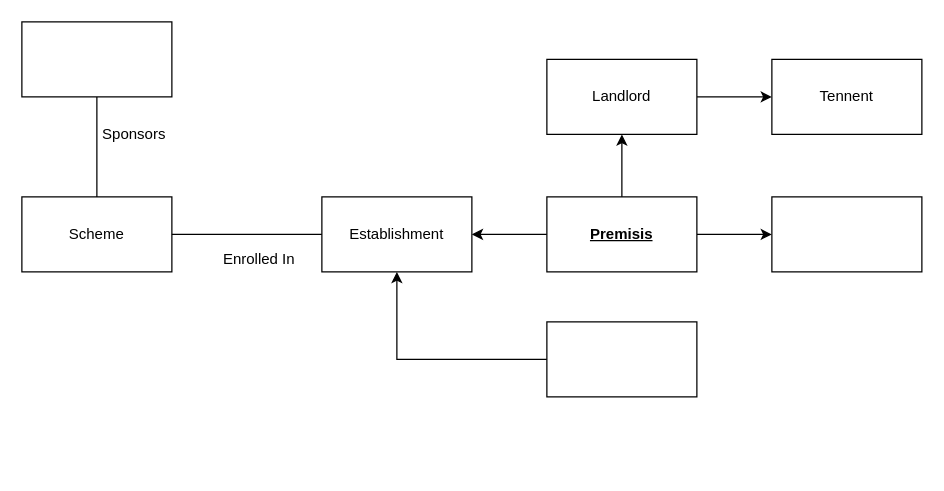
The diagram is 944 pixels wide and 491 high, and some of its shapes have lost their labels. The shapes that lost their labels are listed below. From the top down, each one's centre as x and y in pixels, then its label:
At [96,59]: "Competent Authority".
At [846,234]: "Address".
At [621,359]: "Operator".
